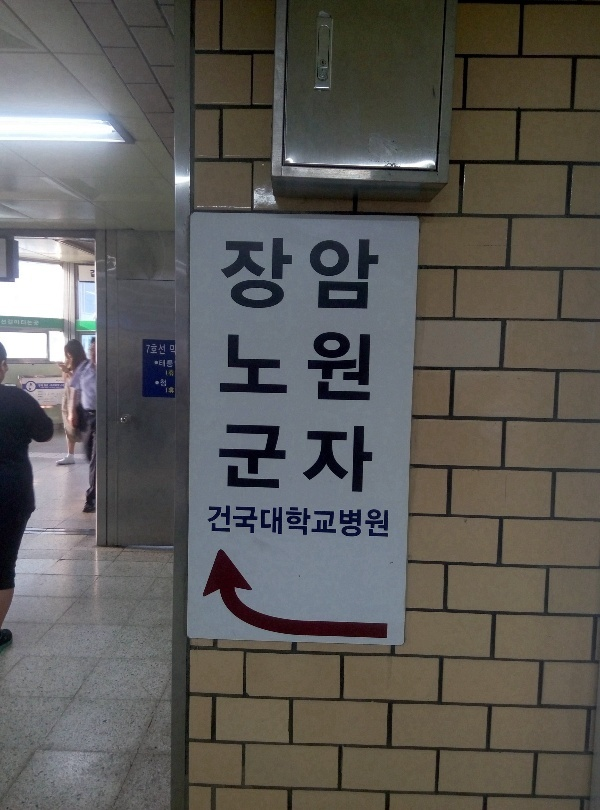text: (225, 236, 240, 314), (241, 236, 256, 314), (257, 236, 272, 314), (273, 236, 288, 314), (289, 236, 304, 314), (305, 236, 320, 314), (321, 236, 336, 314), (337, 236, 352, 314), (353, 236, 368, 314), (241, 327, 256, 402), (257, 327, 272, 402), (273, 327, 288, 402), (289, 327, 304, 402), (305, 327, 320, 402), (321, 327, 336, 402), (337, 327, 352, 402), (353, 327, 368, 402), (241, 420, 256, 495), (257, 420, 272, 495), (273, 420, 288, 495), (289, 420, 304, 495), (305, 420, 320, 495), (321, 420, 336, 495), (337, 420, 352, 495), (353, 420, 368, 495), (226, 420, 240, 495), (369, 236, 381, 314), (228, 327, 240, 402), (369, 420, 379, 495), (217, 236, 224, 314), (353, 506, 368, 541), (369, 506, 384, 541), (209, 505, 224, 538), (225, 505, 240, 538), (241, 505, 256, 538), (257, 505, 272, 538), (273, 505, 288, 538), (289, 505, 304, 538), (305, 505, 320, 538), (321, 505, 336, 538), (339, 506, 352, 541), (369, 327, 373, 402), (49, 390, 62, 404), (146, 343, 160, 355), (37, 390, 48, 404), (385, 506, 389, 541), (2, 318, 16, 326), (17, 319, 33, 326), (33, 319, 48, 326), (161, 360, 174, 368), (205, 505, 208, 538), (166, 386, 176, 395), (166, 369, 176, 377), (49, 383, 64, 388), (170, 344, 176, 356), (90, 269, 96, 280), (8, 319, 16, 326), (161, 378, 167, 387), (38, 383, 48, 388), (161, 343, 165, 355), (154, 360, 160, 368), (155, 378, 160, 387), (337, 505, 338, 538), (49, 387, 60, 390), (40, 387, 48, 390)
